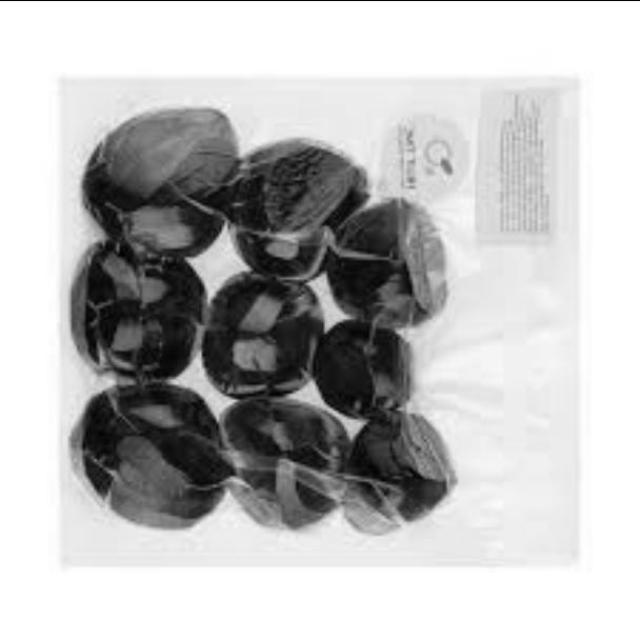cu cai duong: (78, 104, 238, 268), (68, 388, 239, 538), (64, 243, 231, 393), (223, 135, 377, 292), (324, 189, 474, 337), (220, 378, 359, 534), (207, 268, 334, 412), (346, 415, 477, 545), (313, 321, 426, 416)
